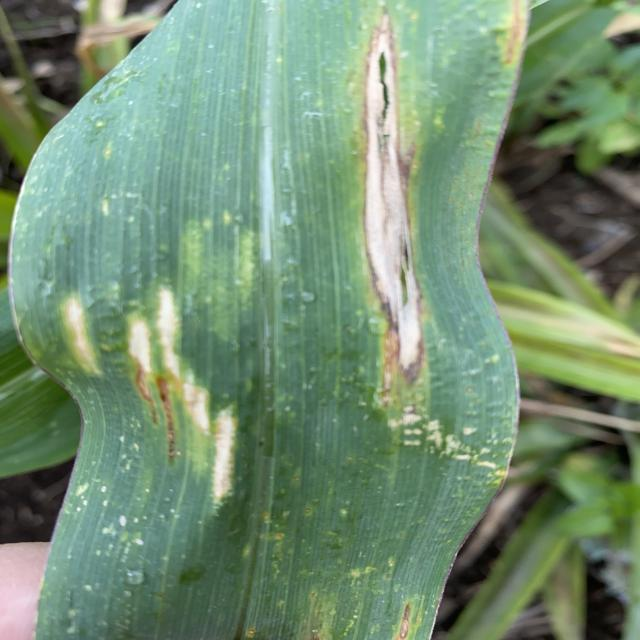Corn_Leaf_Blight: (12, 0, 505, 640)
